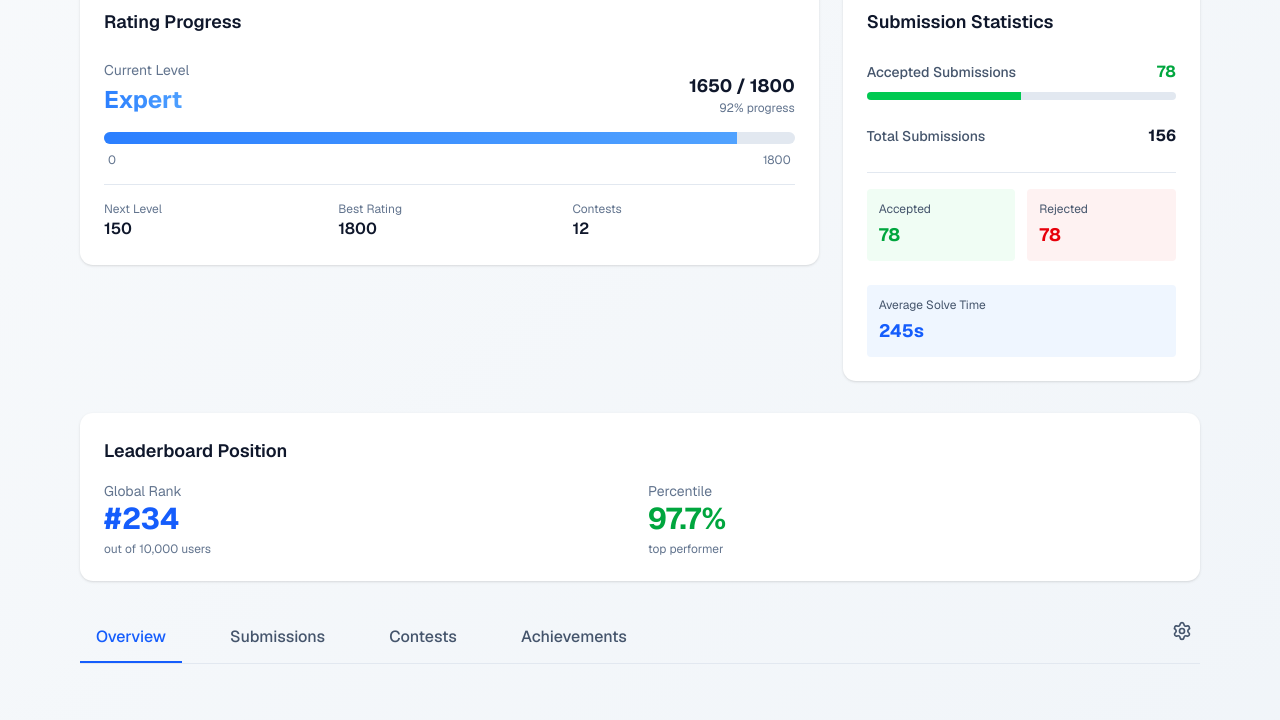
Test: UserProfile Component Suite › UserProfile - Tabs Navigation › should switch to submissions tab on click
(page scrolled)
Click the button with test id "submissions-tab": {"x": 278, "y": 638} [214,613,341,663]
(page scrolled)
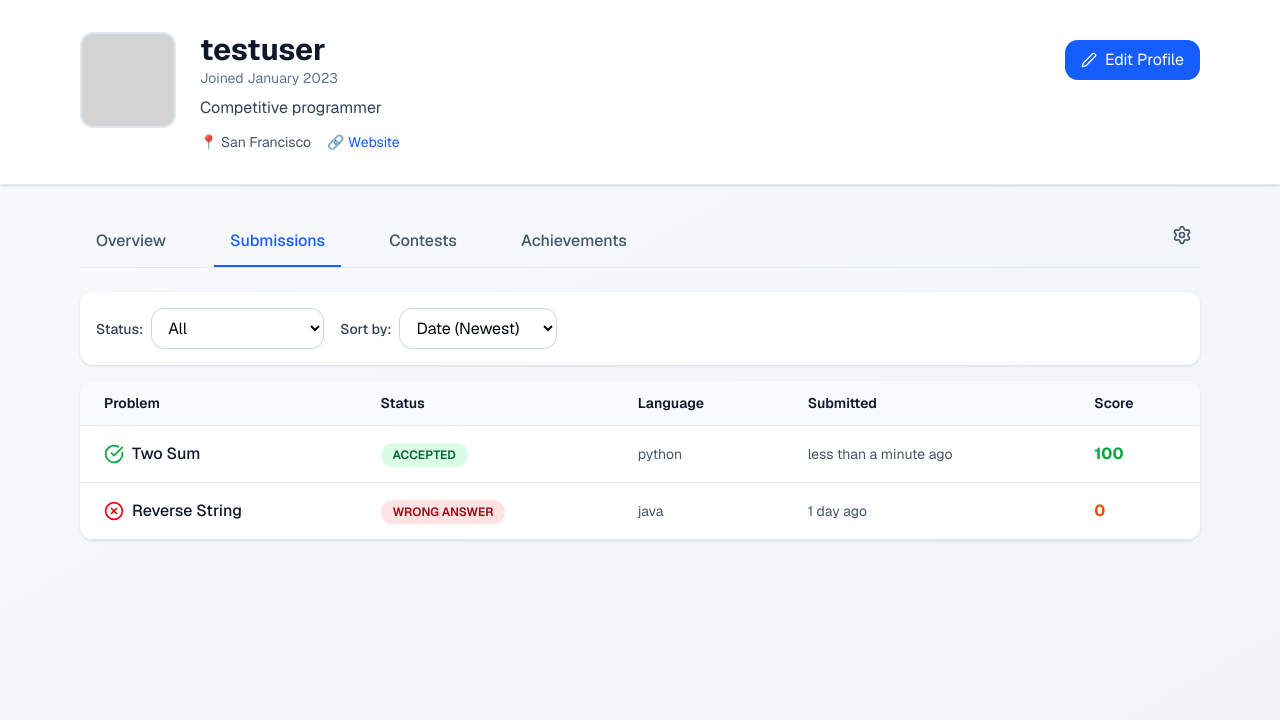
Expected: the row with test id "submission-row" that starts with "Two Sum" is shown, [80,426,1200,482]
